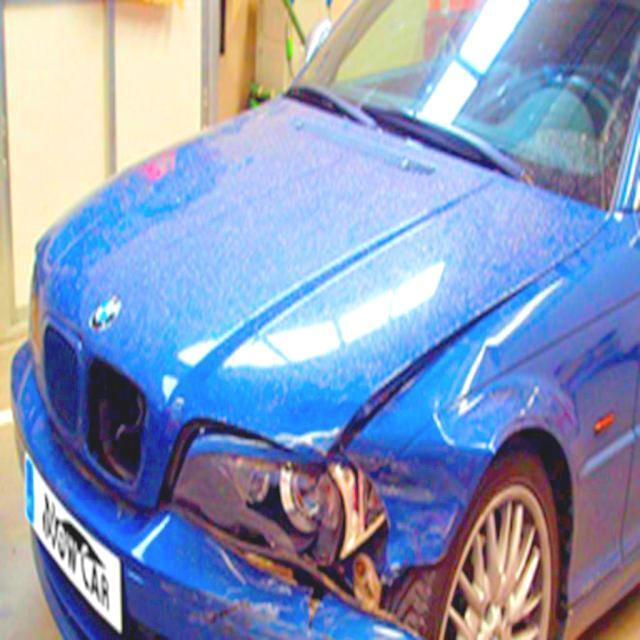minor: (276, 264, 544, 518)
